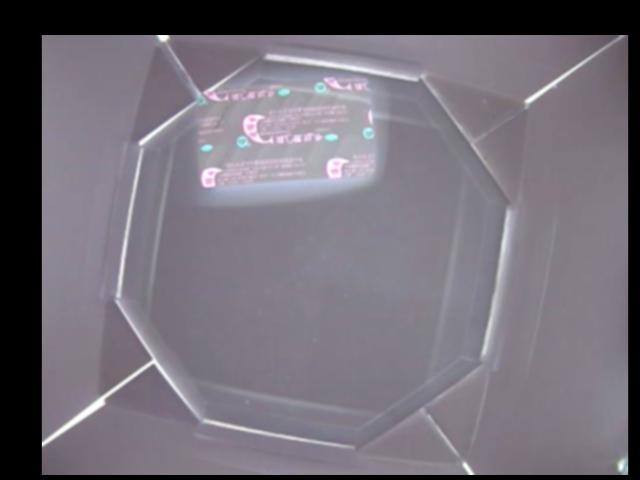Medicine: (194, 74, 378, 189)
